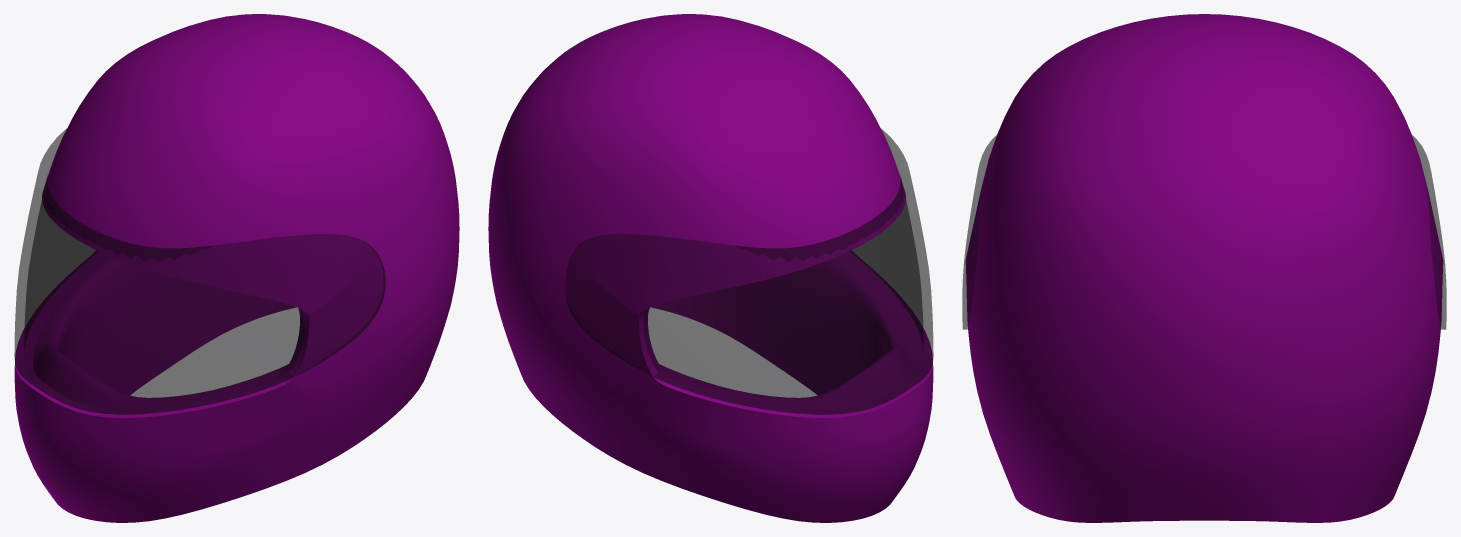
The model's file is 5- Casco.fbx.
3 renders of one model, left to right at view 1: azimuth 30°, elevation 25°; view 2: azimuth 150°, elevation 25°; view 3: azimuth 270°, elevation 25°, orthographic. The views are drawn at different scales.
Parts seen in each view (by area): view 1: polySurface2; view 2: polySurface2; view 3: polySurface2.
Part boxes in pixels (<box>): polySurface2: <box>14,14,459,522</box>; polySurface2: <box>488,14,933,522</box>; polySurface2: <box>962,14,1446,522</box>.
Size of the model in its own units: 1.9 by 1.91 by 1.59.
